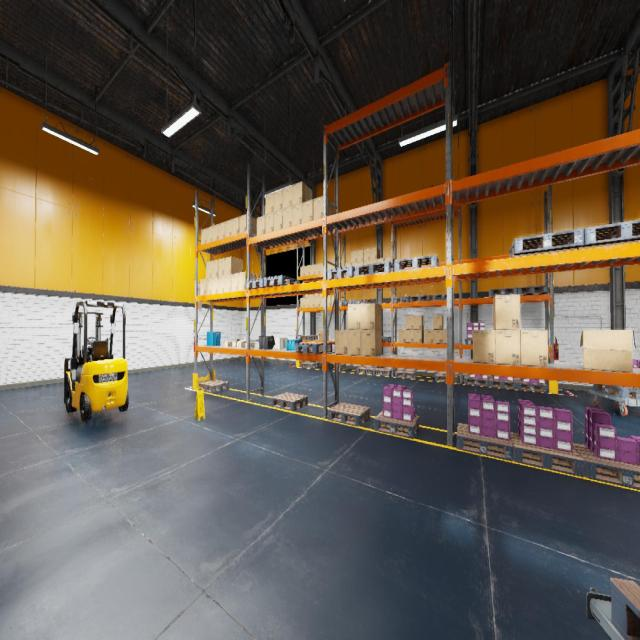box: (580, 330, 635, 372), (520, 329, 548, 367), (493, 294, 520, 329), (496, 330, 520, 365), (472, 329, 496, 364), (313, 196, 333, 225), (361, 330, 382, 356), (361, 303, 381, 329), (292, 180, 312, 206), (239, 214, 257, 235), (348, 329, 361, 355), (238, 272, 256, 290), (348, 303, 360, 329), (225, 257, 242, 275), (336, 330, 348, 354), (302, 199, 313, 223), (292, 203, 302, 225), (283, 185, 292, 208), (283, 206, 292, 228), (274, 188, 282, 212), (265, 192, 273, 215), (265, 212, 273, 233), (274, 210, 282, 230), (257, 215, 265, 235), (433, 315, 443, 329), (232, 216, 239, 235), (370, 247, 380, 260), (225, 219, 232, 237), (231, 273, 238, 291), (224, 274, 231, 292), (433, 330, 442, 343), (414, 316, 423, 329), (318, 330, 329, 340), (218, 258, 224, 276), (212, 260, 218, 278), (414, 330, 423, 342), (425, 330, 433, 343), (398, 329, 406, 342), (212, 223, 218, 240), (206, 261, 212, 278), (219, 222, 225, 238), (218, 276, 224, 292), (212, 277, 218, 293), (200, 279, 206, 295), (406, 316, 413, 329), (237, 337, 246, 347), (406, 330, 413, 342), (207, 226, 212, 242), (201, 228, 206, 244), (206, 278, 211, 294), (331, 261, 341, 269), (384, 256, 394, 264), (351, 250, 357, 263), (364, 248, 370, 260), (357, 249, 363, 261), (442, 330, 447, 343), (315, 296, 320, 307), (315, 263, 320, 274), (300, 298, 305, 308), (310, 264, 315, 274), (305, 265, 310, 275), (300, 266, 305, 276), (245, 342, 254, 347), (331, 295, 335, 306), (327, 295, 331, 306), (327, 261, 331, 272), (238, 342, 245, 348), (310, 297, 314, 307), (305, 298, 309, 308), (320, 292, 329, 296), (225, 341, 232, 346), (320, 296, 323, 306), (320, 263, 323, 273), (377, 258, 384, 262), (370, 259, 377, 263), (364, 260, 370, 264), (351, 262, 357, 266), (345, 262, 351, 266), (232, 341, 236, 346), (358, 262, 363, 266), (310, 294, 314, 297), (315, 294, 320, 296)
forklift: (65, 301, 128, 420)
pallets: (510, 432, 584, 477), (572, 444, 640, 489), (509, 228, 583, 257), (457, 423, 513, 461), (577, 219, 640, 249), (610, 578, 640, 640), (374, 410, 419, 439), (328, 402, 370, 427), (394, 255, 439, 271), (271, 392, 308, 411), (593, 384, 640, 398), (355, 261, 394, 276), (294, 342, 332, 354), (264, 275, 299, 287), (514, 380, 548, 392), (327, 266, 355, 280), (199, 380, 229, 393), (246, 278, 278, 289), (488, 378, 517, 390), (517, 285, 548, 295), (489, 287, 517, 297), (464, 375, 489, 386), (435, 373, 458, 383), (395, 369, 416, 378), (373, 367, 391, 376), (356, 366, 376, 374), (410, 295, 432, 302), (433, 294, 454, 300), (300, 361, 318, 368), (394, 296, 410, 302), (352, 300, 371, 304), (300, 336, 317, 340), (340, 300, 352, 305), (382, 337, 391, 342), (465, 338, 472, 344)
